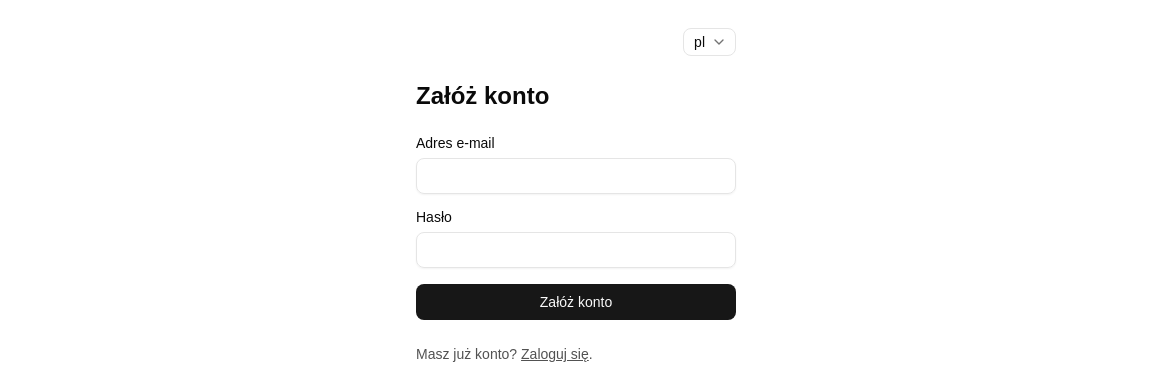
it: RegisterPage › creates the account, logs in and lands on the project list
Type "reader@example.com" into the field labelled "Adres e-mail".
click(576, 176); type("reader@example.com")  # box [416,158,736,194]
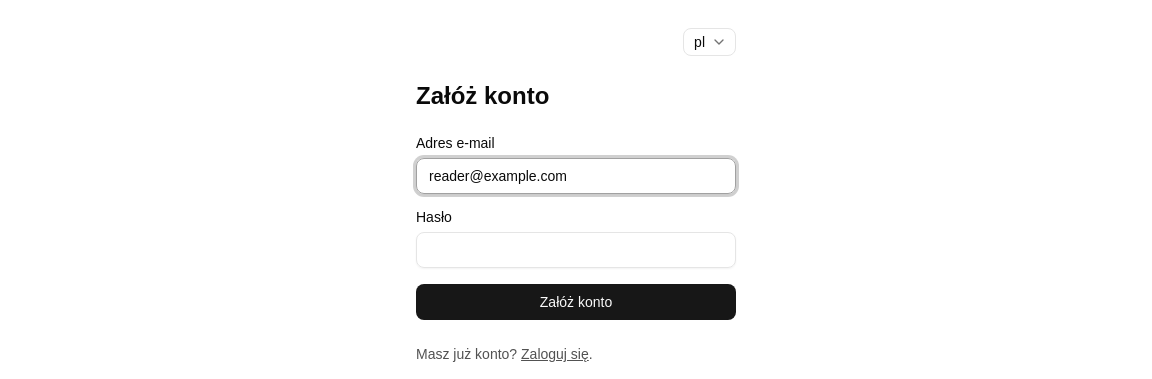
Type "correcthorse" into the password field labelled "Hasło".
click(576, 250); type("correcthorse")  # box [416,232,736,268]
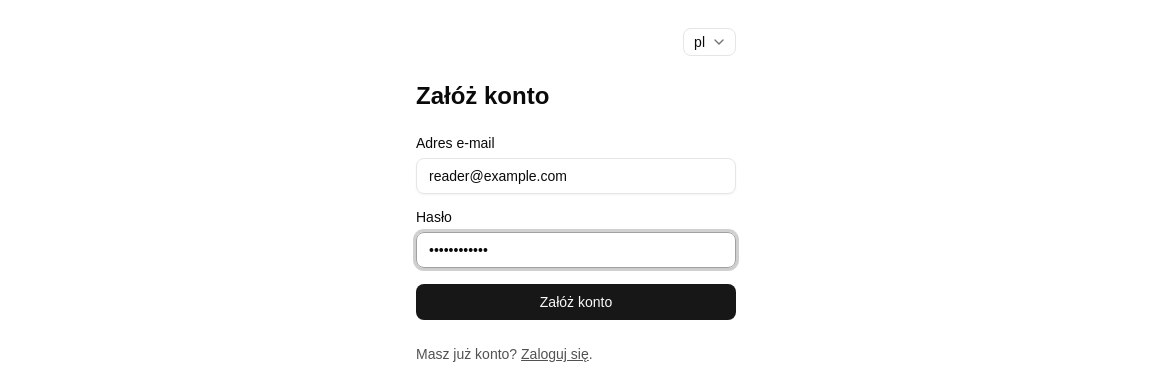
Click the button "Załóż konto".
click(576, 302)  # box [416,284,736,320]
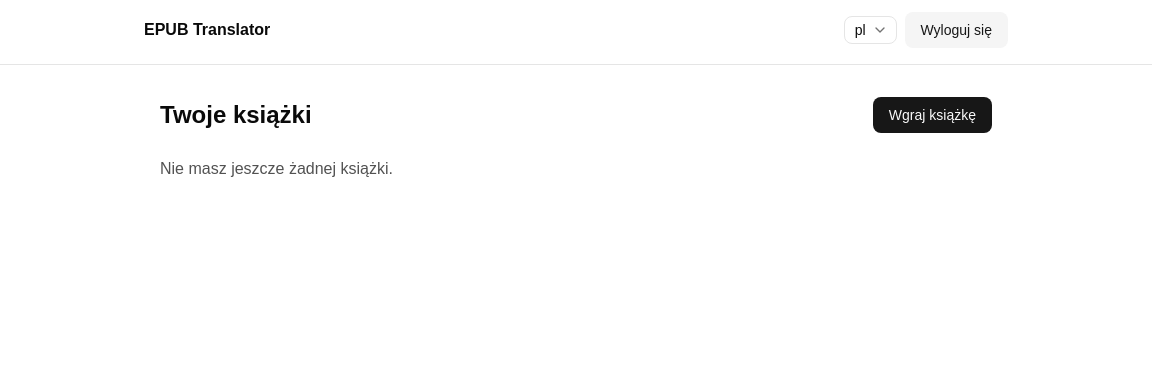
Expected: the heading "Twoje książki" is shown, [160,99,312,131]
